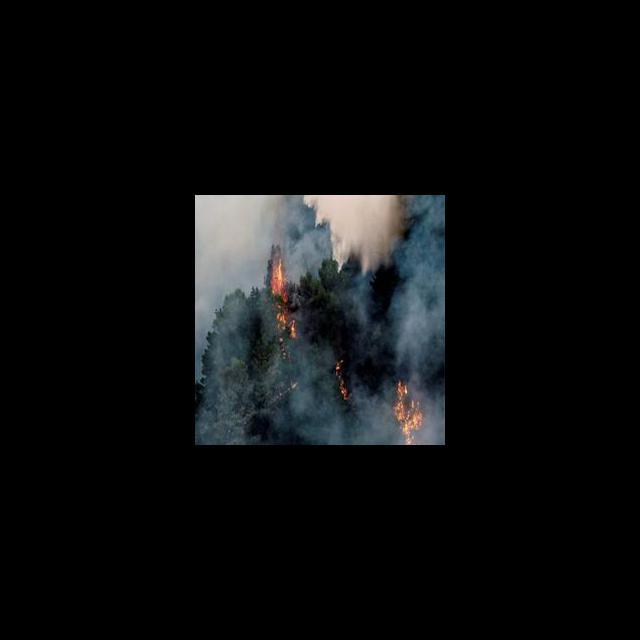Fire: (262, 244, 304, 354), (386, 375, 426, 443), (333, 358, 354, 403)
Smoke: (195, 197, 444, 444)
